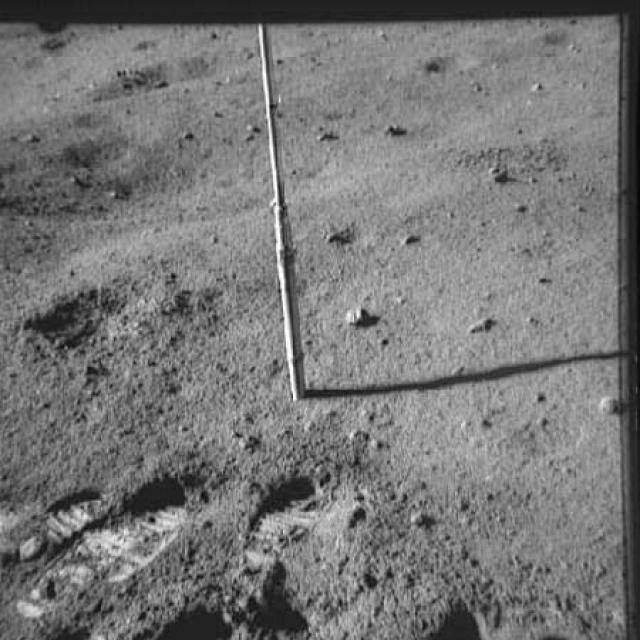crater: (77, 44, 260, 105), (58, 131, 143, 177), (425, 48, 476, 84), (538, 25, 603, 52)
rock: (461, 310, 503, 340), (342, 301, 372, 333), (375, 121, 414, 142), (401, 226, 427, 252), (596, 394, 621, 421), (171, 127, 200, 148), (241, 120, 269, 141), (315, 124, 339, 147), (13, 130, 37, 150), (488, 163, 511, 182)
